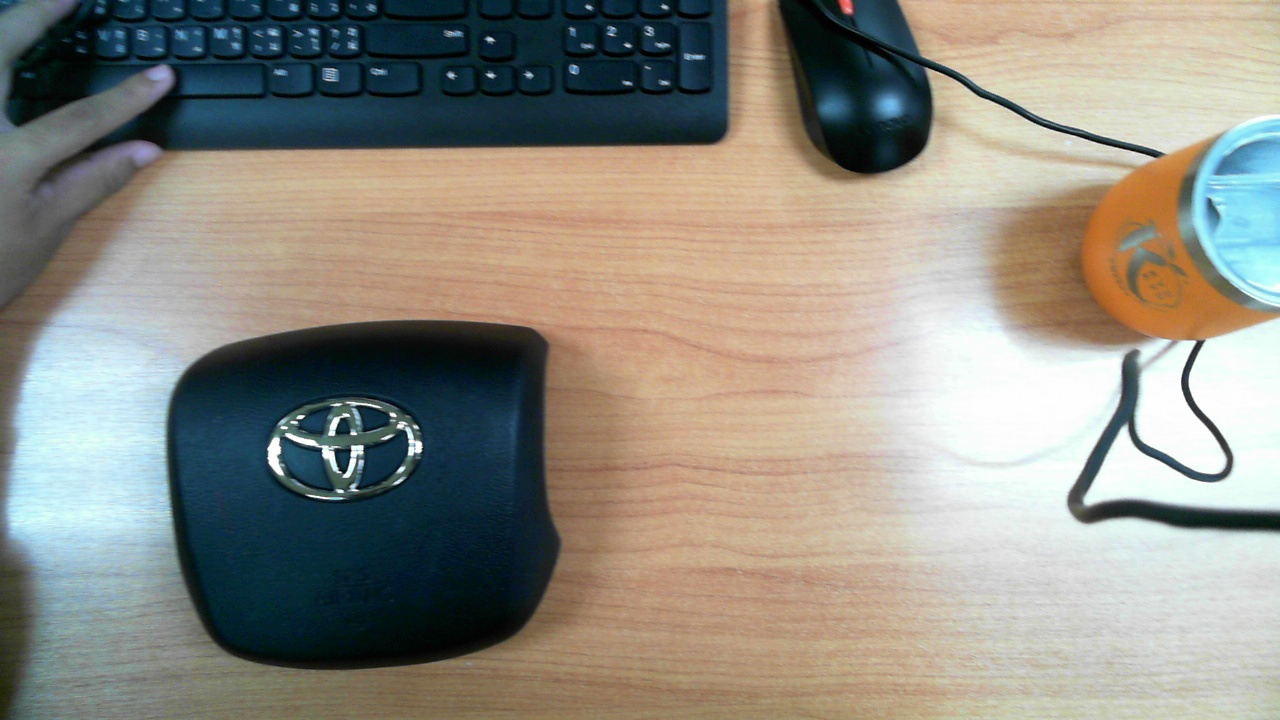Airbag: (166, 320, 562, 671)
Toyota: (266, 401, 424, 501)
